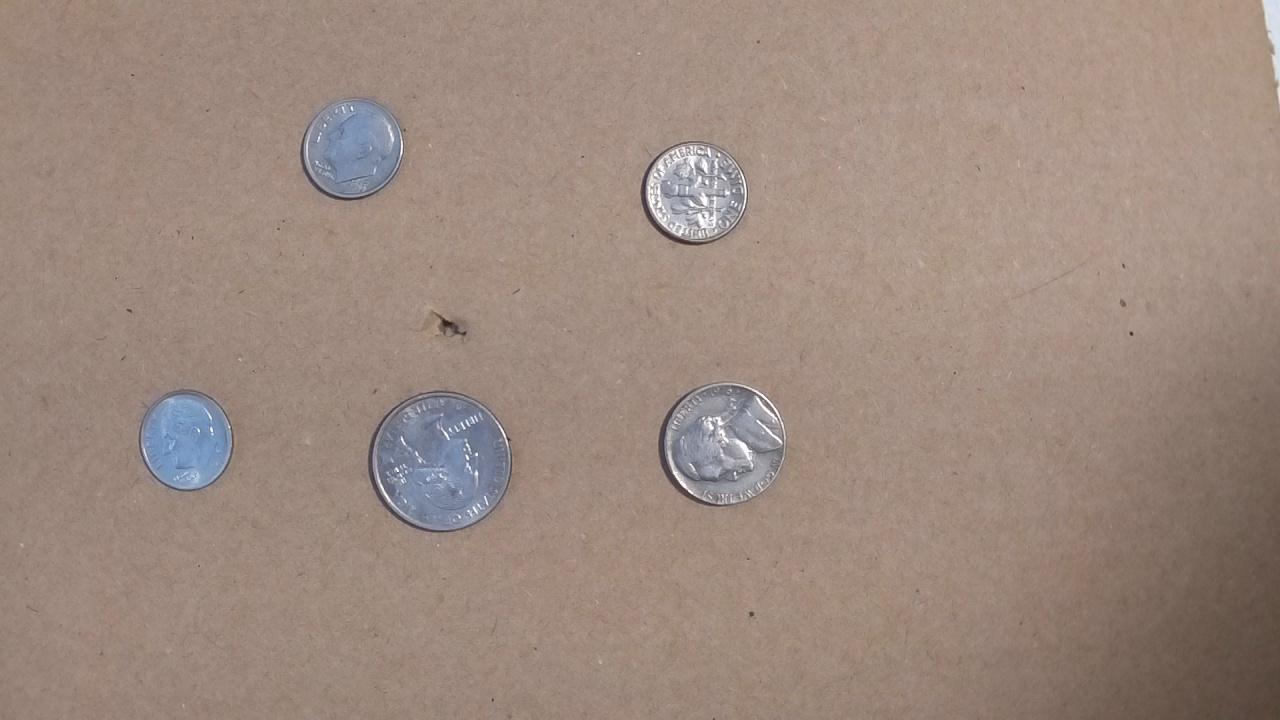dime: (638, 138, 752, 248), (298, 95, 406, 203), (137, 387, 235, 495)
nickel: (652, 379, 794, 511)
quarter: (366, 390, 516, 534)
